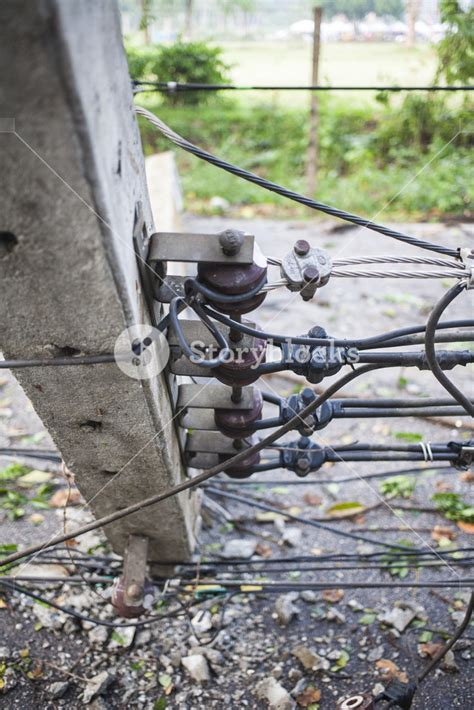pole: (115, 193, 354, 531)
